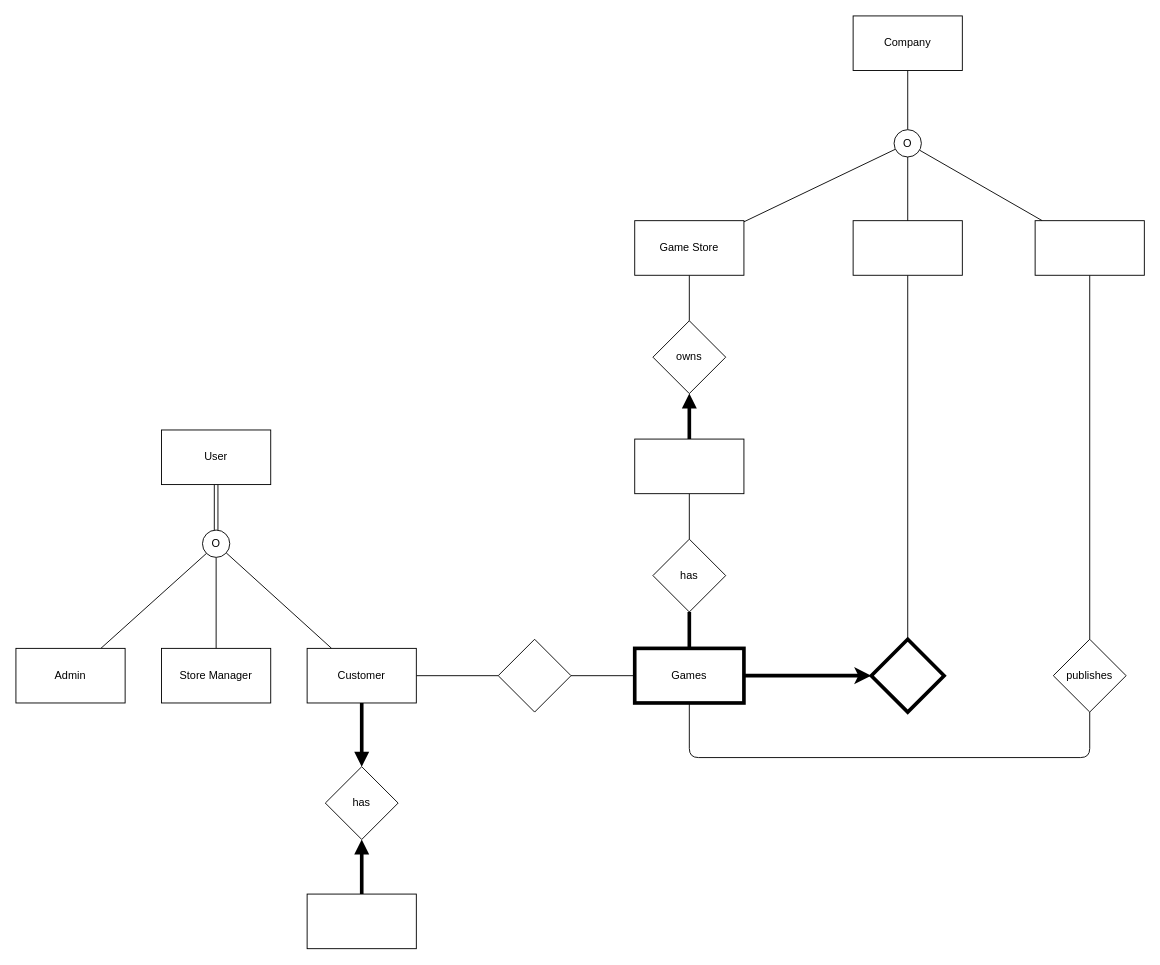
This 1160x965 diagram has some shape labels left out. The box of each missing label's shape, as (x1, y1, x2, y2) in pixels:
belongs: (869, 637, 945, 713)
Issuer: (852, 220, 962, 275)
Profile: (306, 893, 416, 949)
Publisher: (1034, 220, 1144, 275)
reviews: (497, 638, 571, 712)
Store: (634, 438, 744, 494)
